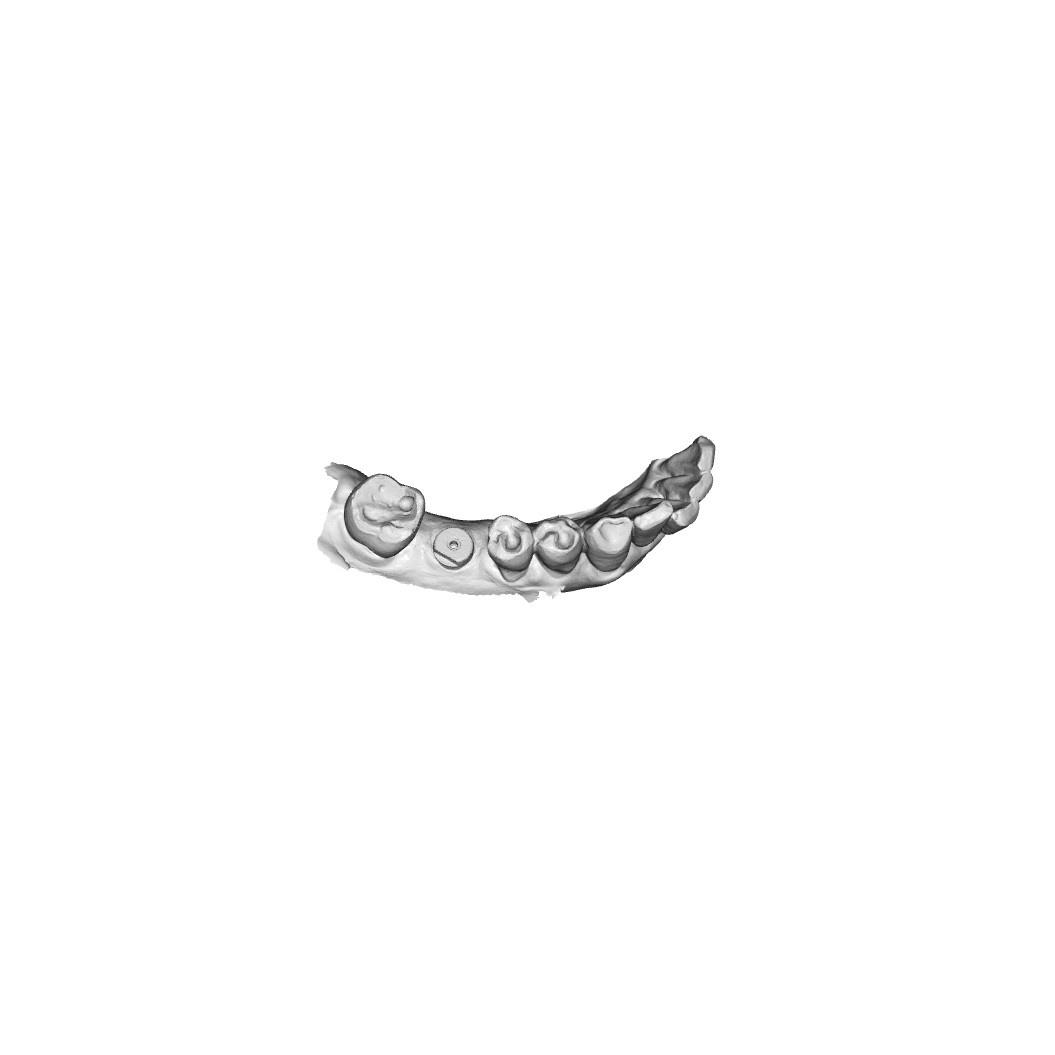canine: (586, 513, 633, 574)
implant: (430, 525, 476, 572)
incisor: (657, 434, 719, 475), (631, 497, 672, 551), (657, 472, 715, 500), (668, 494, 703, 532)
molar: (343, 470, 427, 559)
premolar: (531, 514, 586, 576), (483, 512, 532, 574)
